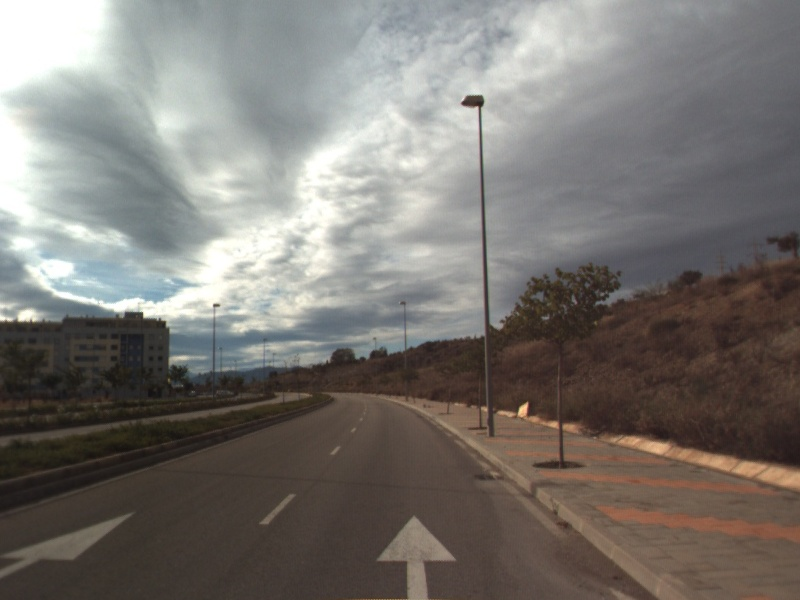STRAIGHT: (1, 508, 140, 580), (373, 512, 460, 600)
